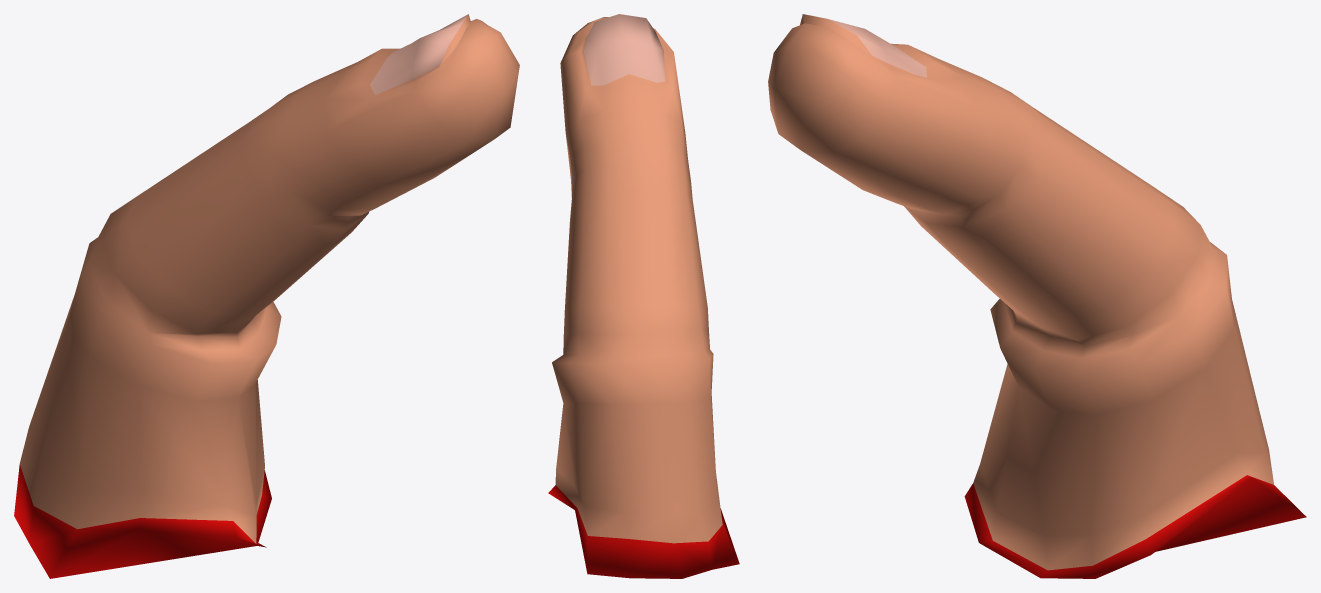
File: Finger.fbx
3 views of the same model, side by side, from view 1: azimuth 30°, elevation 25°; view 2: azimuth 150°, elevation 25°; view 3: azimuth 270°, elevation 25° (orthographic). The views are drawn at different scales.
Visible parts, largest first — view 1: armmesh.001; view 2: armmesh.001; view 3: armmesh.001.
Part boxes in pixels (left/top/right/bottom): armmesh.001: left=14, top=14, right=519, bottom=578; armmesh.001: left=548, top=14, right=739, bottom=578; armmesh.001: left=768, top=14, right=1306, bottom=578.
Size of the model in its own units: 453 by 719 by 562.
